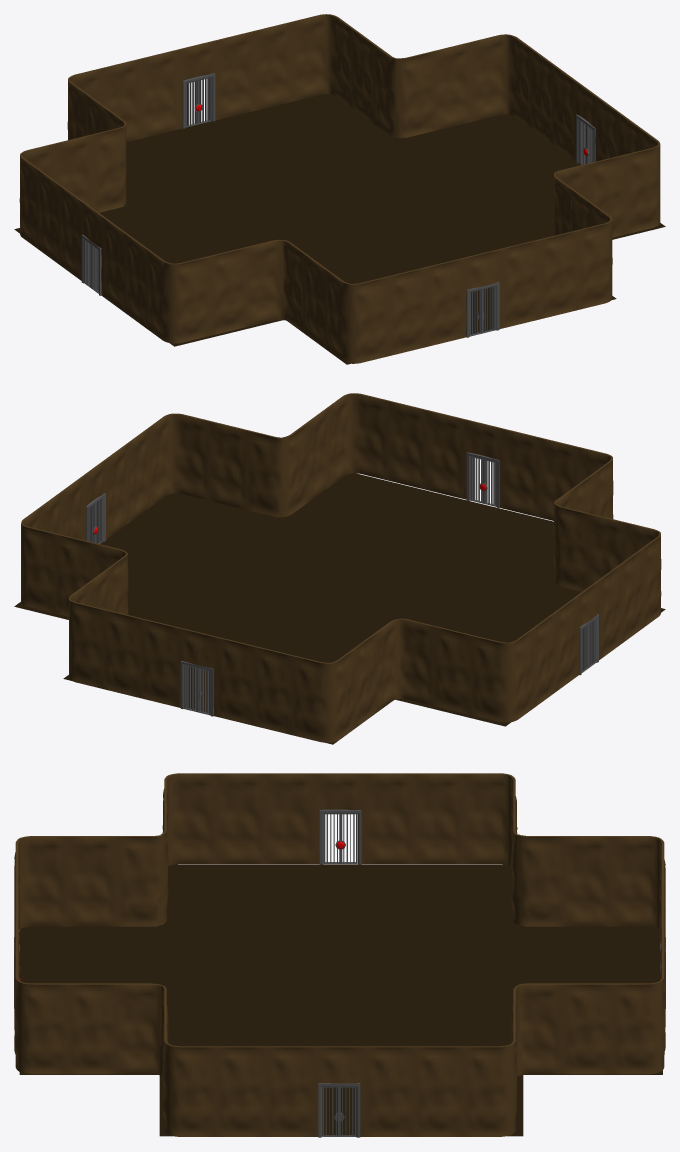
Rendered from room_3_FINAL.fbx.
3 views of the same model, one above another, from view 1: azimuth 30°, elevation 25°; view 2: azimuth 150°, elevation 25°; view 3: azimuth 270°, elevation 25° (orthographic). The views are drawn at different scales.
Visible parts, largest first — view 1: FLOOR, DOORWAY (×4), CORNER_18, CORNER_19, CORNER_13, CORNER_12, CORNER_20, CORNER_23, CORNER_16, CORNER_17, WALL102, WALL81 (+28 smaller); view 2: FLOOR, DOORWAY (×4), CORNER_14, CORNER_15, CORNER_17, CORNER_22, CORNER_16, CORNER_21, WALL82, WALL104, WALL94, WALL83 (+28 smaller); view 3: FLOOR, DOORWAY (×2), CORNER_17, CORNER_12, CORNER_16, CORNER_13, CORNER_21, CORNER_23, WALL85, WALL91, WALL88, WALL96 (+16 smaller).
Boxes of the visible parts, x1,y1,x2,y2 form: FLOOR: (14,94,665,364); DOORWAY (×4): (81,40,597,337); CORNER_18: (147,249,209,343); CORNER_19: (326,269,388,363); CORNER_13: (471,34,532,128); CORNER_12: (292,14,353,107); CORNER_20: (374,45,435,138); CORNER_23: (245,239,305,332); CORNER_16: (625,129,660,234); CORNER_17: (577,204,612,309); WALL102: (425,258,464,346); WALL81: (141,49,179,138); FLOOR: (14,473,665,744); DOORWAY (×4): (83,419,599,716); CORNER_14: (292,648,355,742); CORNER_15: (471,628,534,722); CORNER_17: (327,393,388,486); CORNER_22: (247,423,307,517); CORNER_16: (148,413,209,507); CORNER_21: (374,618,433,712); WALL82: (254,646,293,735); WALL104: (388,400,426,489); WALL94: (433,626,472,714); WALL83: (141,618,179,707); FLOOR: (19,864,662,1136); DOORWAY (×2): (315,773,364,1137); CORNER_17: (14,962,67,1074); CORNER_12: (612,962,665,1074); CORNER_16: (163,1025,216,1136); CORNER_13: (463,1025,516,1136); CORNER_21: (511,816,565,926); CORNER_23: (117,815,168,926); WALL85: (562,983,612,1074); WALL91: (265,1046,315,1136); WALL88: (364,1046,414,1136); WALL96: (364,773,414,863).
Size of the model in its own units: 1317 by 200 by 1317.
